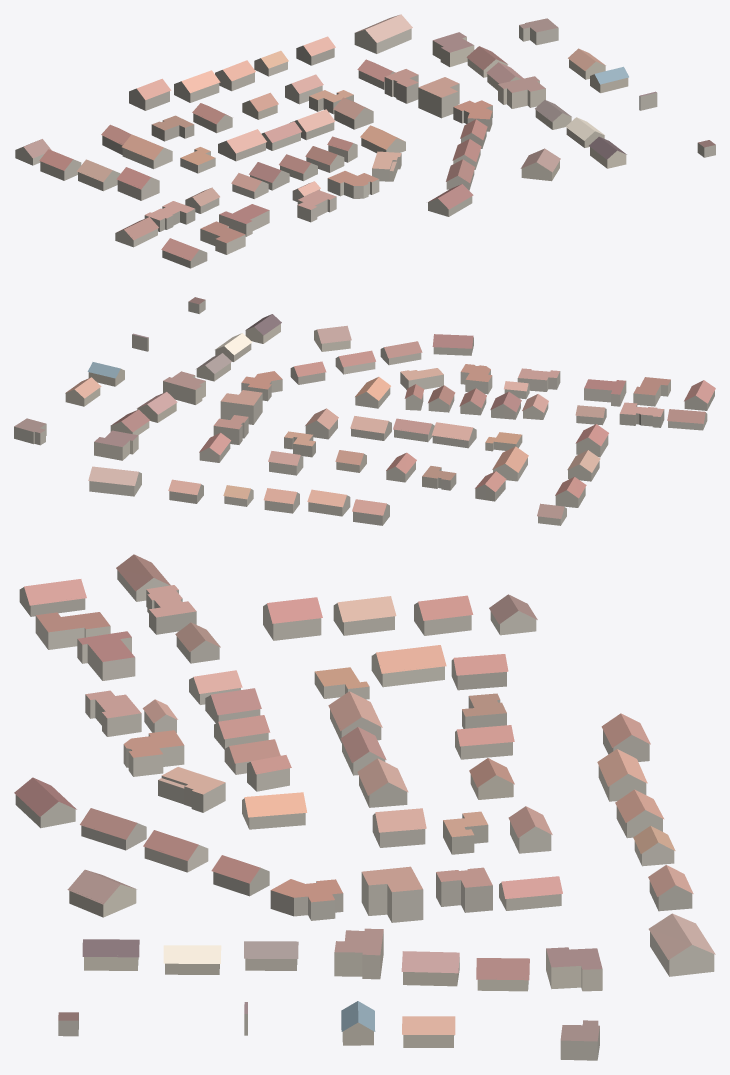
3 renders of one model, top to bottom at view 1: azimuth 30°, elevation 25°; view 2: azimuth 150°, elevation 25°; view 3: azimuth 270°, elevation 25°, orthographic. The views are drawn at different scales.
Visible parts, largest first — view 1: tuile; view 2: tuile; view 3: tuile.
Boxes of the visible parts, x1,y1,x2,y2 form: tuile: [15, 14, 715, 268]; tuile: [14, 297, 715, 525]; tuile: [14, 554, 715, 1060].
Bounding box in the file's own units: 263 × 25.23 × 183.
